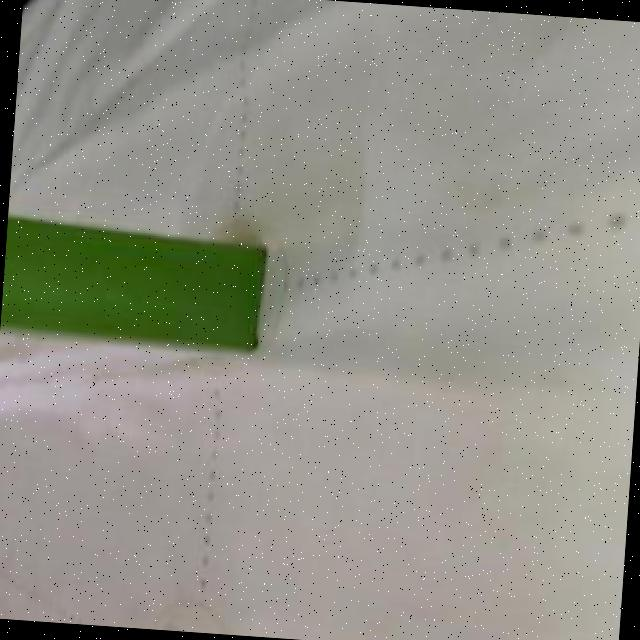greenbox: (0, 215, 266, 356)
